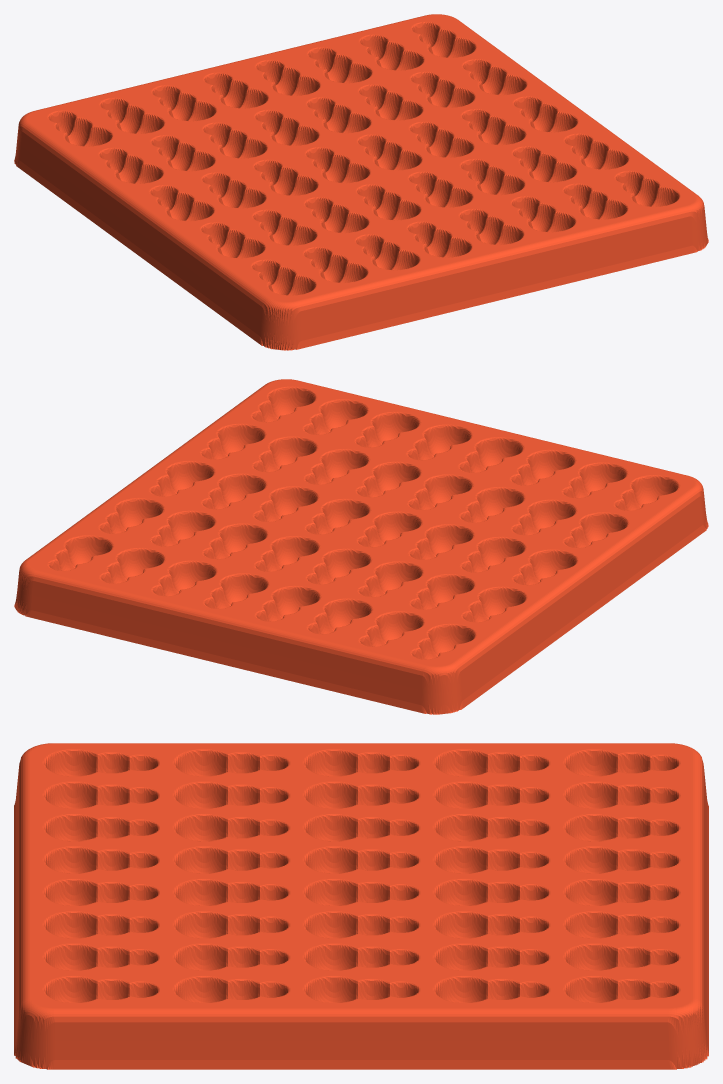
File: mold.glb
The picture shows the model from 3 angles, top to bottom: view 1: azimuth 30°, elevation 25°; view 2: azimuth 150°, elevation 25°; view 3: azimuth 270°, elevation 25°; orthographic projection. The views are drawn at different scales.
Visible parts, largest first — view 1: geometry_0; view 2: geometry_0; view 3: geometry_0.
Boxes of the visible parts, bbox=[...] form: geometry_0: bbox=[14, 14, 708, 350]; geometry_0: bbox=[14, 379, 708, 714]; geometry_0: bbox=[14, 743, 708, 1069].
Size of the model in its own units: 0.1486 by 0.0136 by 0.1571.
